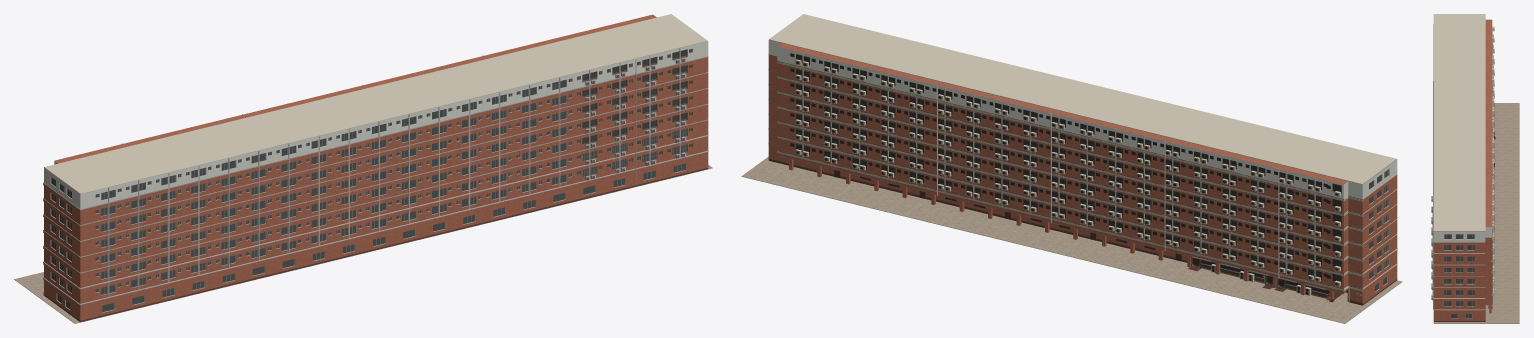
File: chunk-dorm-way-759140894.glb
3 renders of one model, left to right at view 1: azimuth 30°, elevation 25°; view 2: azimuth 150°, elevation 25°; view 3: azimuth 270°, elevation 25°, orthographic. The views are drawn at different scales.
Visible parts, largest first — view 1: chunk-dorm-way-759140894; view 2: chunk-dorm-way-759140894; view 3: chunk-dorm-way-759140894.
Boxes of the visible parts, left/top/right/bottom form: chunk-dorm-way-759140894: left=14, top=14, right=712, bottom=323; chunk-dorm-way-759140894: left=741, top=14, right=1402, bottom=323; chunk-dorm-way-759140894: left=1431, top=14, right=1519, bottom=323.
Bounding box in the file's own units: 138 × 26.6 × 23.34.
37 materials, 14 textured.
